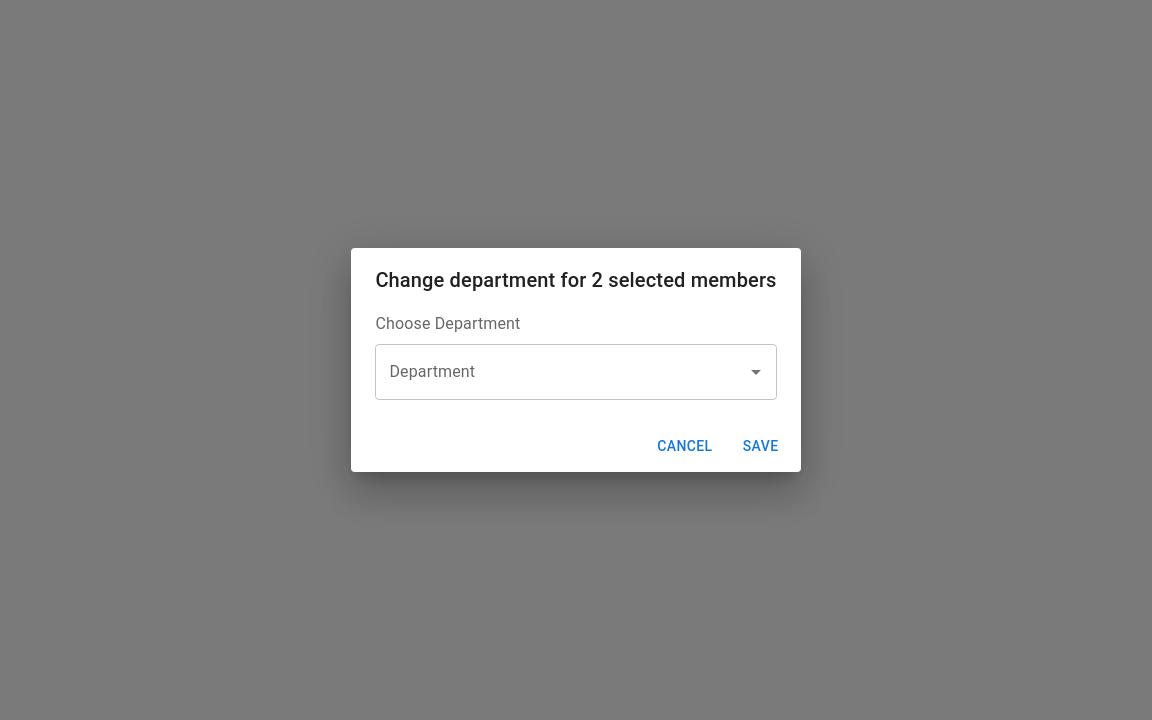
Test: Super-admin ChangeDepartmentDialog › error snackbar can be closed via its Alert close icon
Type "Math" into the dropdown labelled "Department" at point(561, 372), box [384,353,738,391]
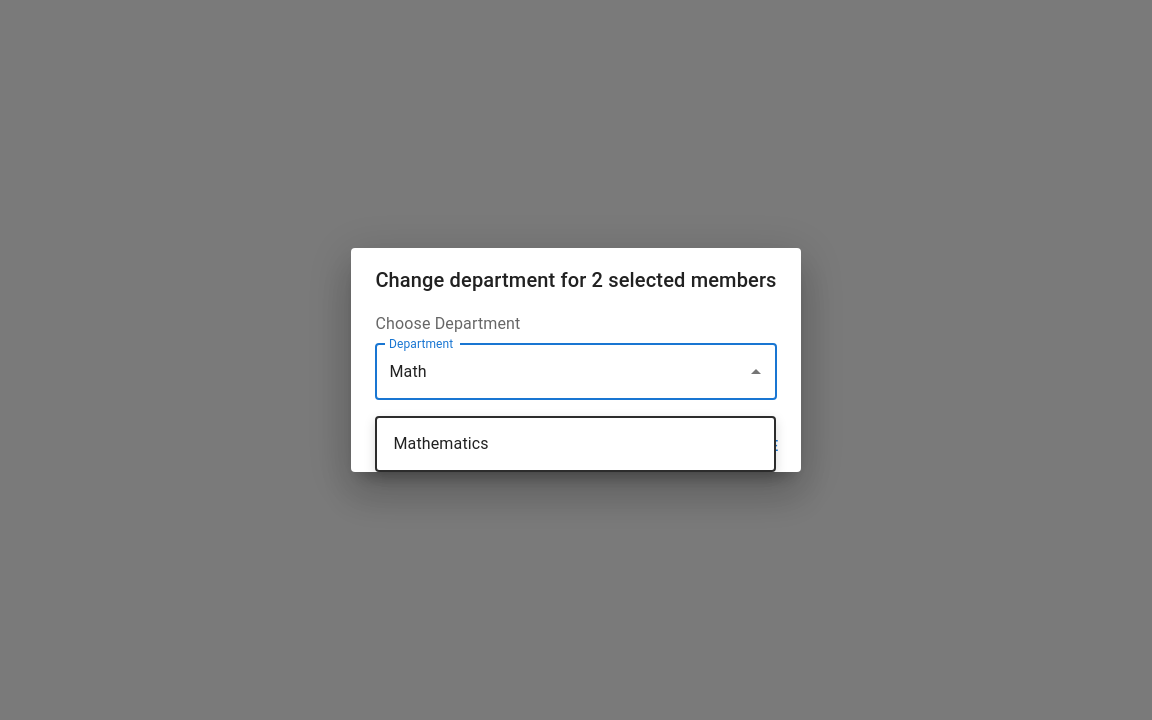
Click the option "Mathematics" at point(441, 443), box [393,434,489,453]
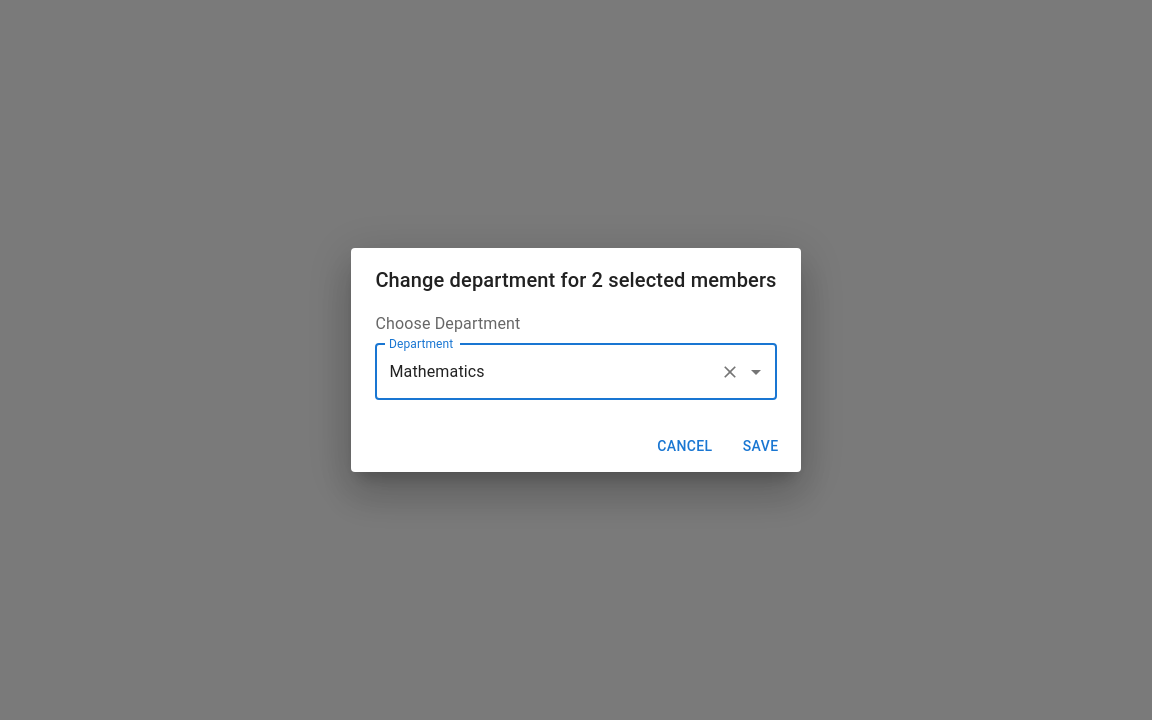
Click the button "Save" at point(761, 446), box [729,428,793,464]
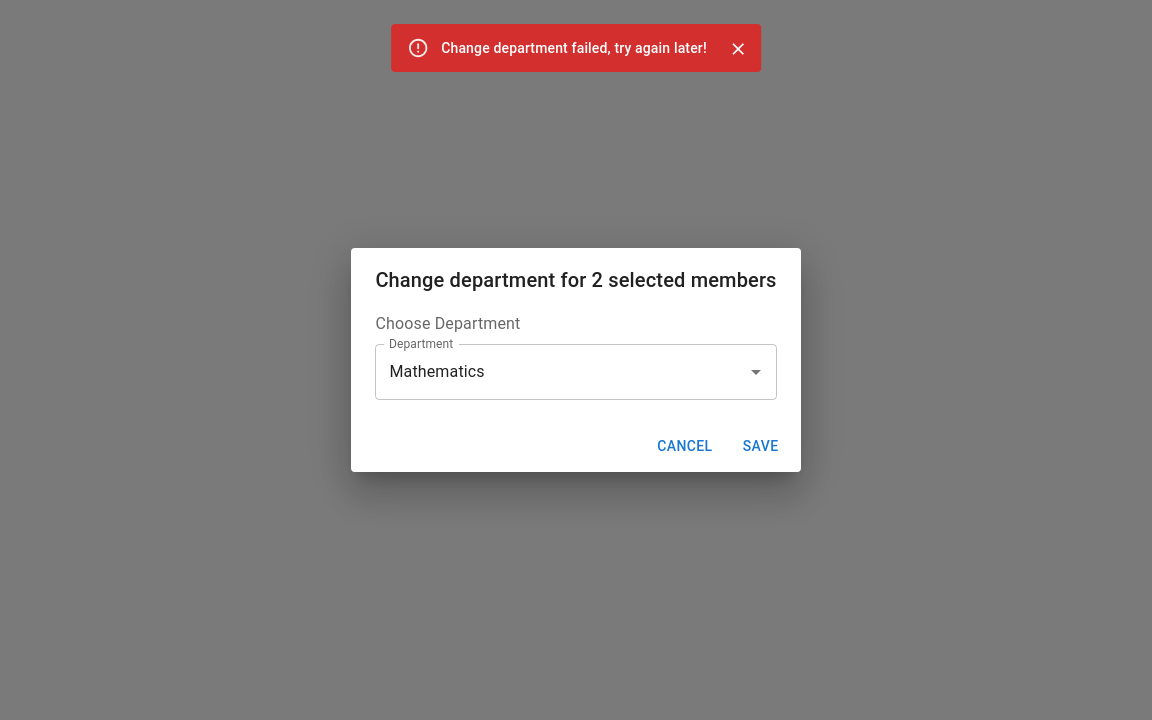
Now the text "Change department failed, try again later!" is shown, box [441,40,707,56]
Click the button named "Close" at point(738, 49), box [723,34,753,64]
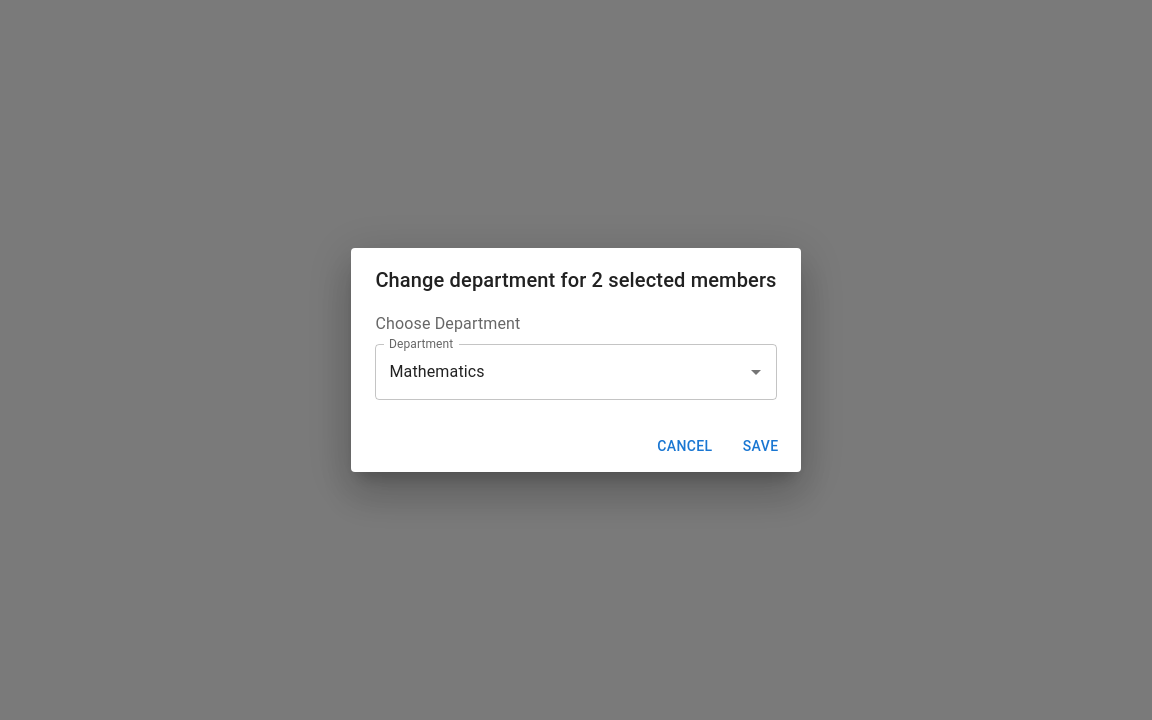
Now the text "Change department failed, try again later!" is gone
